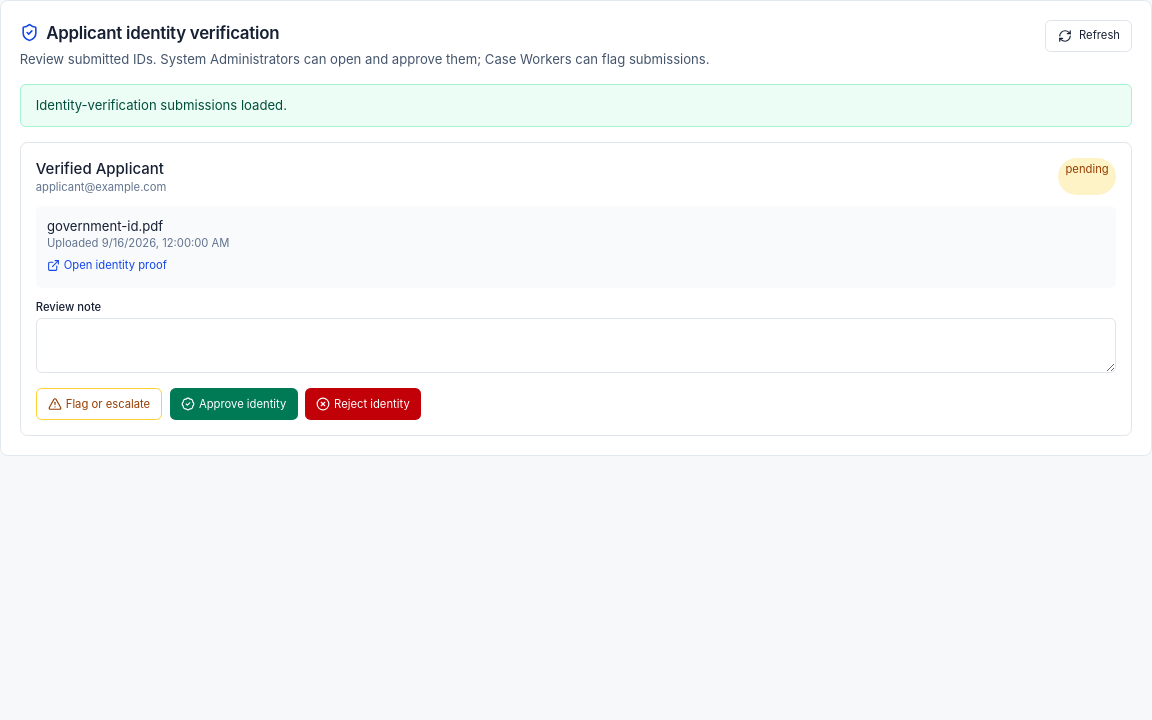
Scenario: ApplicantVerificationPanel protected identity proof › reports an expired document session in place without silently logging out
Click the button "Open identity proof": {"x": 107, "y": 266} left=47, top=258, right=167, bottom=273
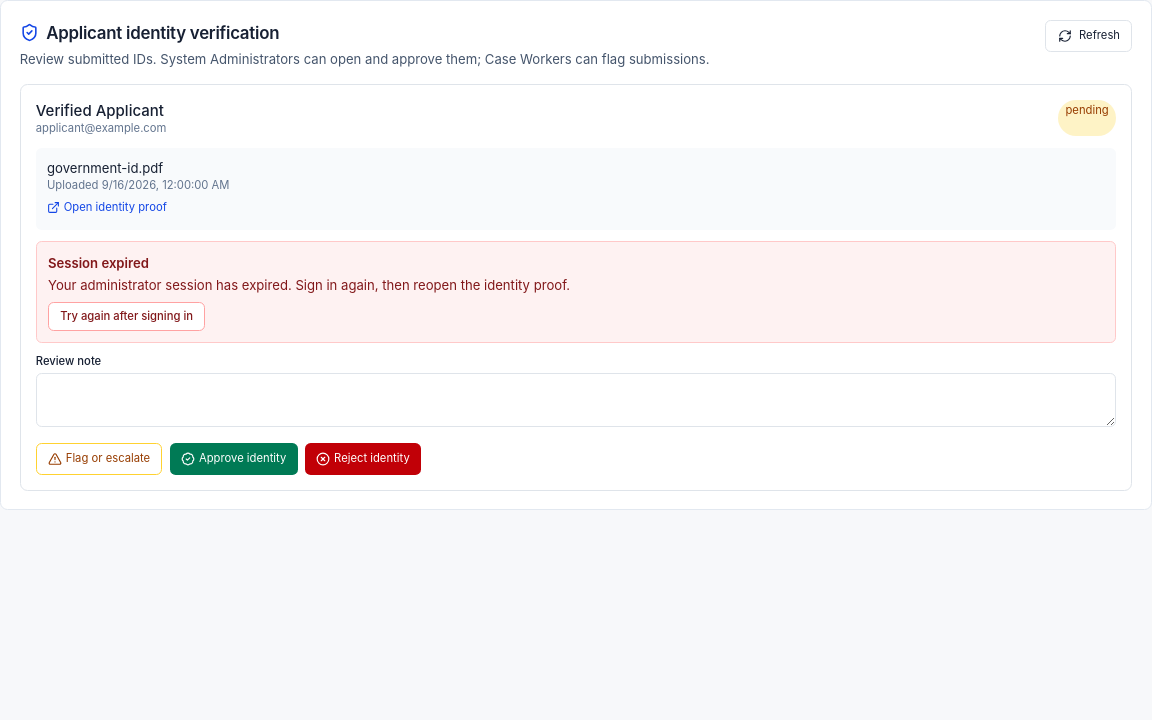
expect the message shows "Session expired": met, box left=48, top=254, right=149, bottom=270
expect the message shows "Sign in again": met, box left=48, top=277, right=570, bottom=293
